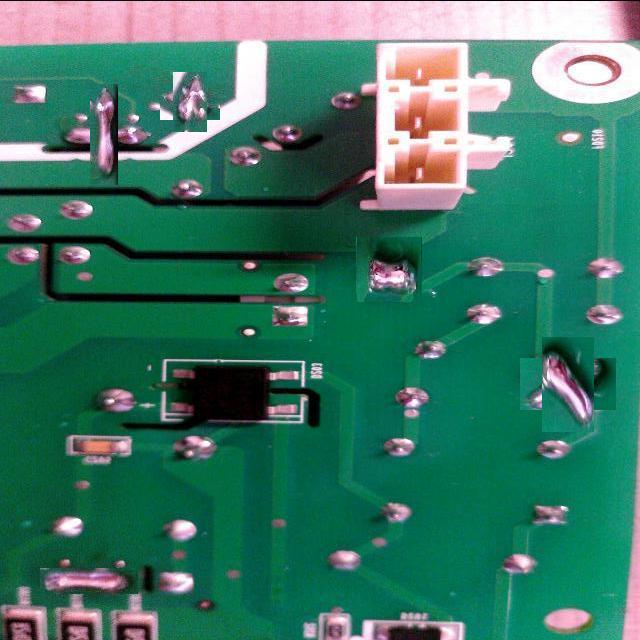Short_circuit: (532, 347, 606, 421), (356, 237, 422, 302), (72, 102, 136, 166), (40, 568, 138, 594), (166, 79, 214, 126)
